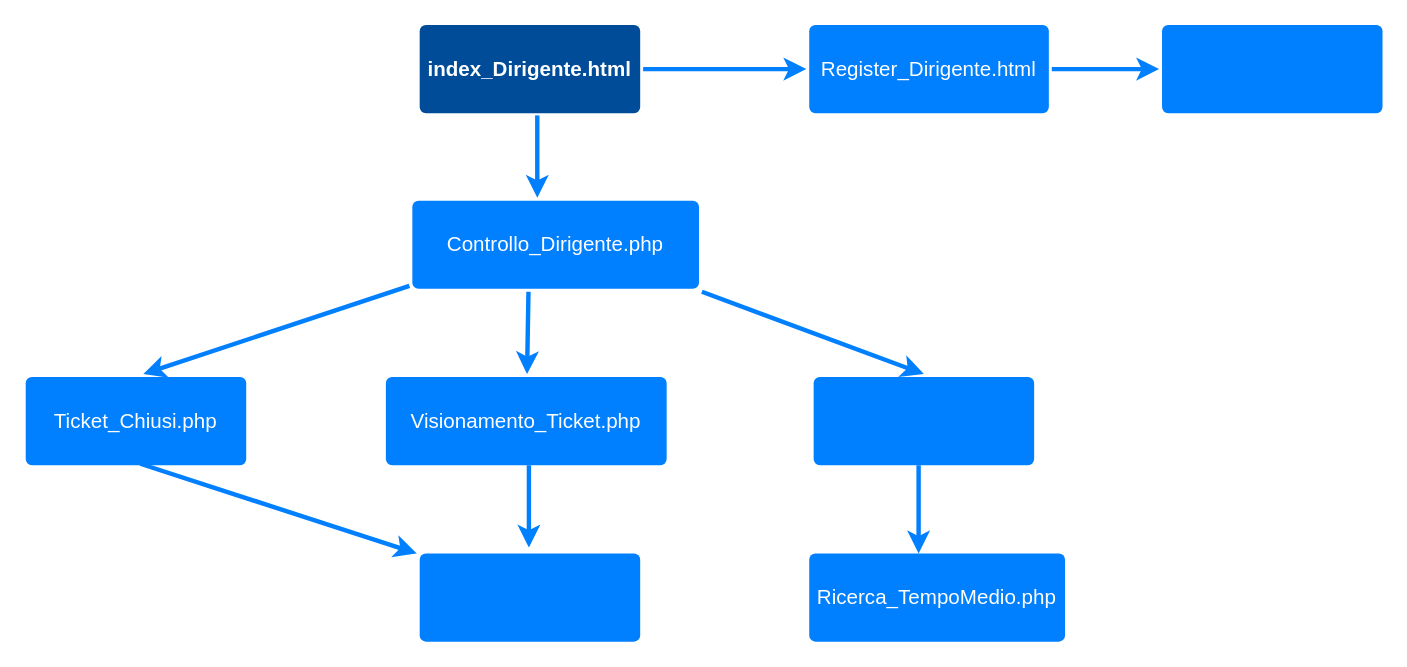
Image size: 1407x667. Some labels were removed from this diagram. The centre of each missing label's shape, as x and y in pixels:
Register_Dirigente.php: (x=1271, y=68)
Tempo_Medio.php: (x=923, y=420)
Visiona_Report2.php: (x=529, y=597)
